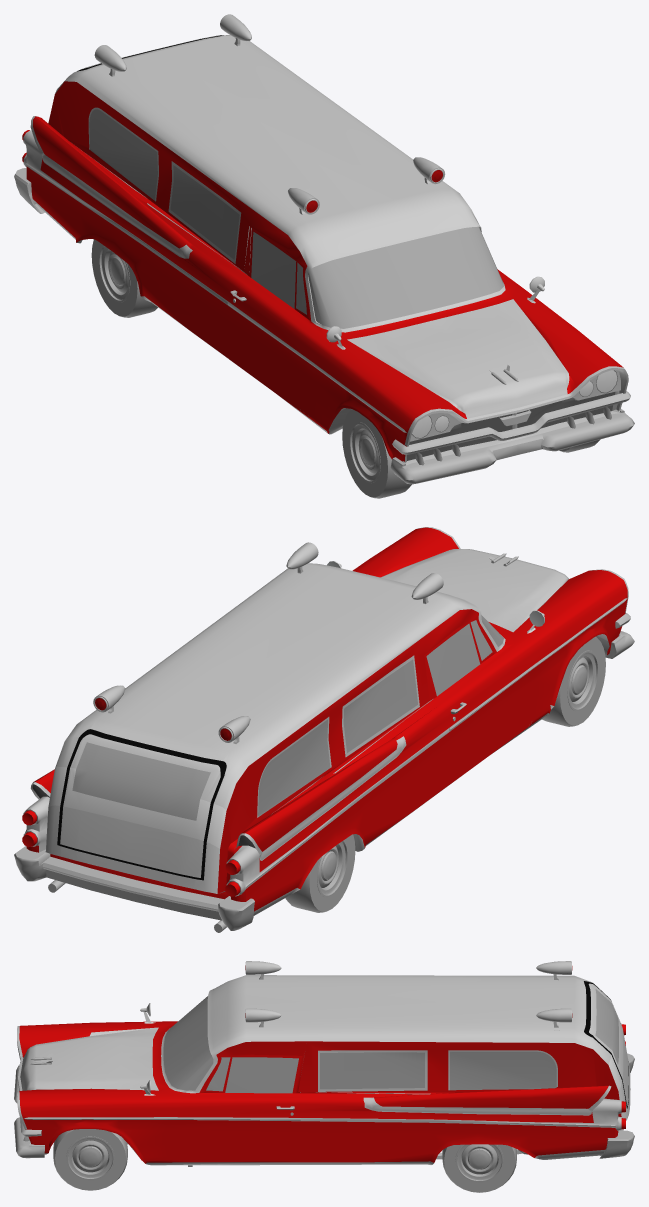
Rendered from dodge_ambulance_1957.glb.
3 renders of one model, top to bottom at view 1: azimuth 30°, elevation 25°; view 2: azimuth 150°, elevation 25°; view 3: azimuth 270°, elevation 25°, orthographic. The views are drawn at different scales.
Parts seen in each view (by area): view 1: DodgeAmbulance1957; view 2: DodgeAmbulance1957; view 3: DodgeAmbulance1957.
Part boxes in pixels (x1,y1,x2,y2): DodgeAmbulance1957: (14, 14, 634, 498); DodgeAmbulance1957: (14, 527, 634, 932); DodgeAmbulance1957: (14, 961, 634, 1192).
Bounding box in the file's own units: 1813 × 1621 × 5442.
